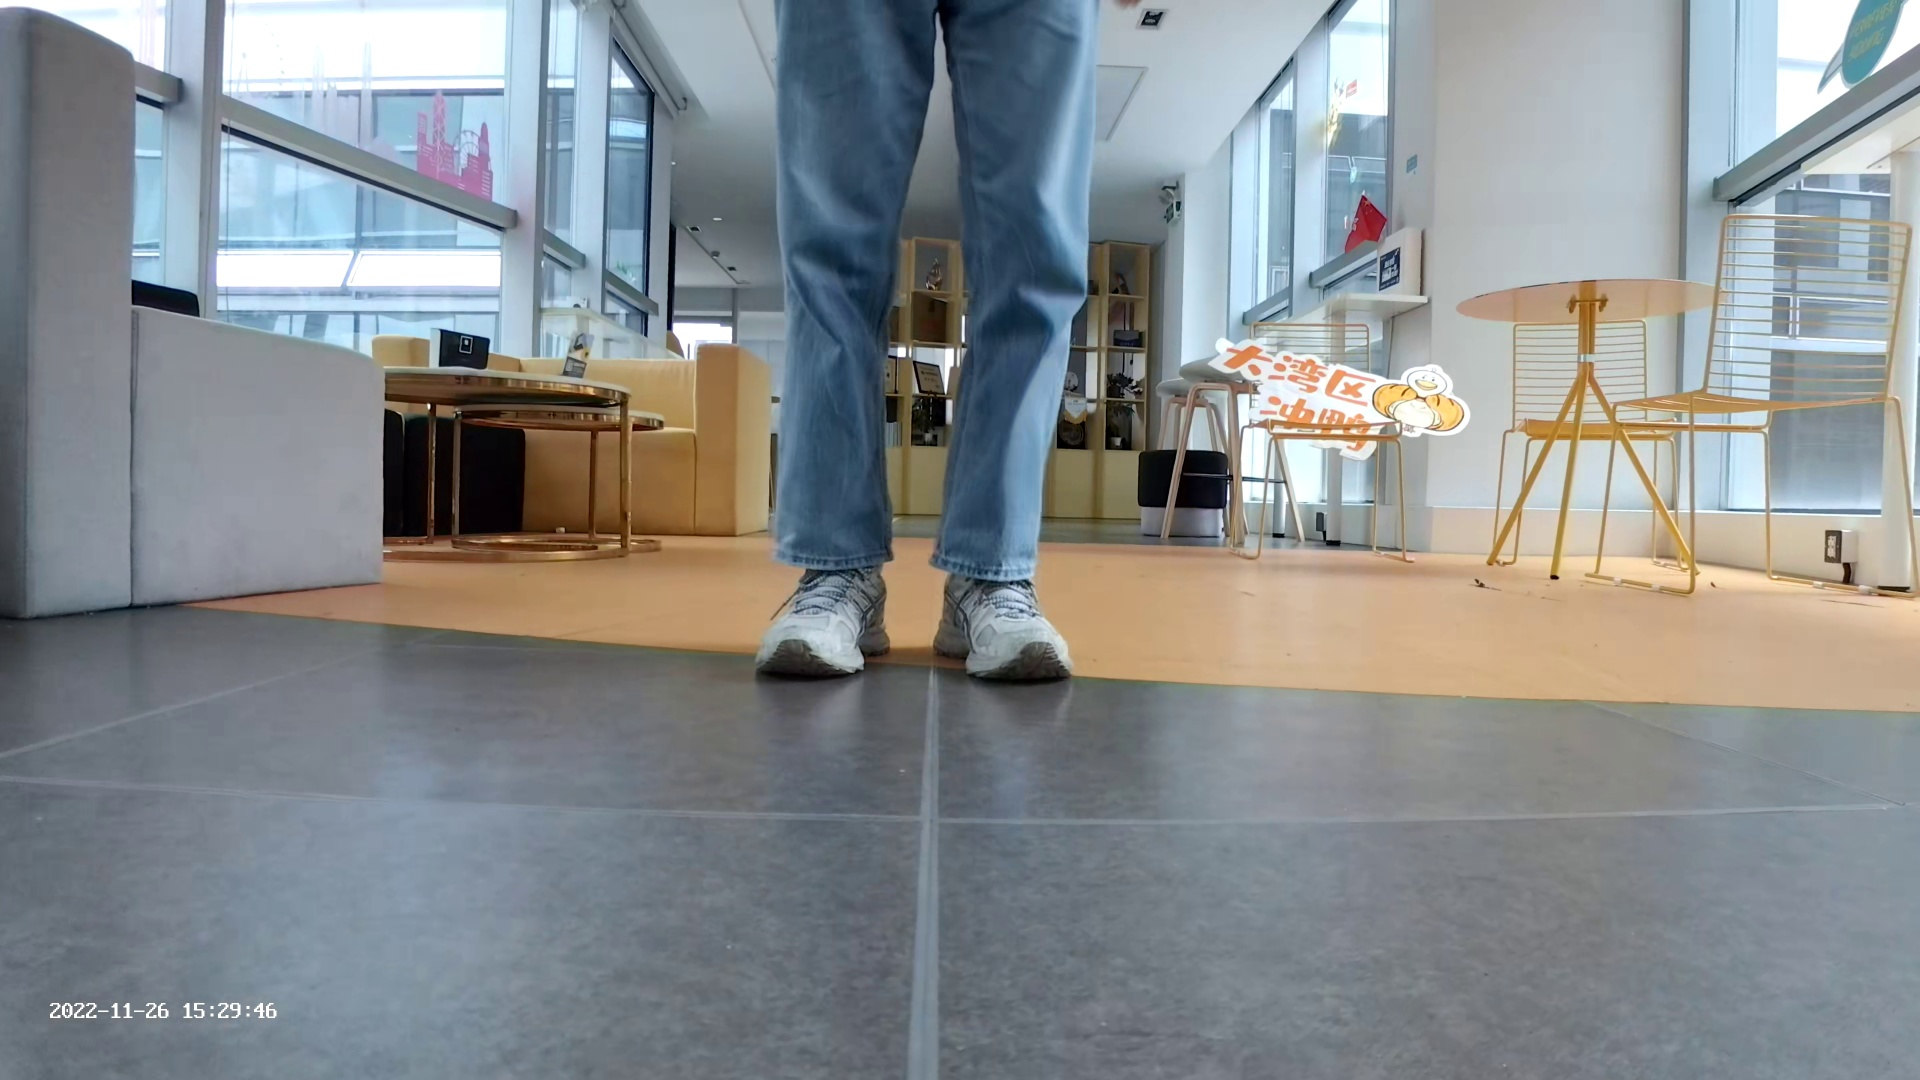person: (741, 1, 1115, 684)
